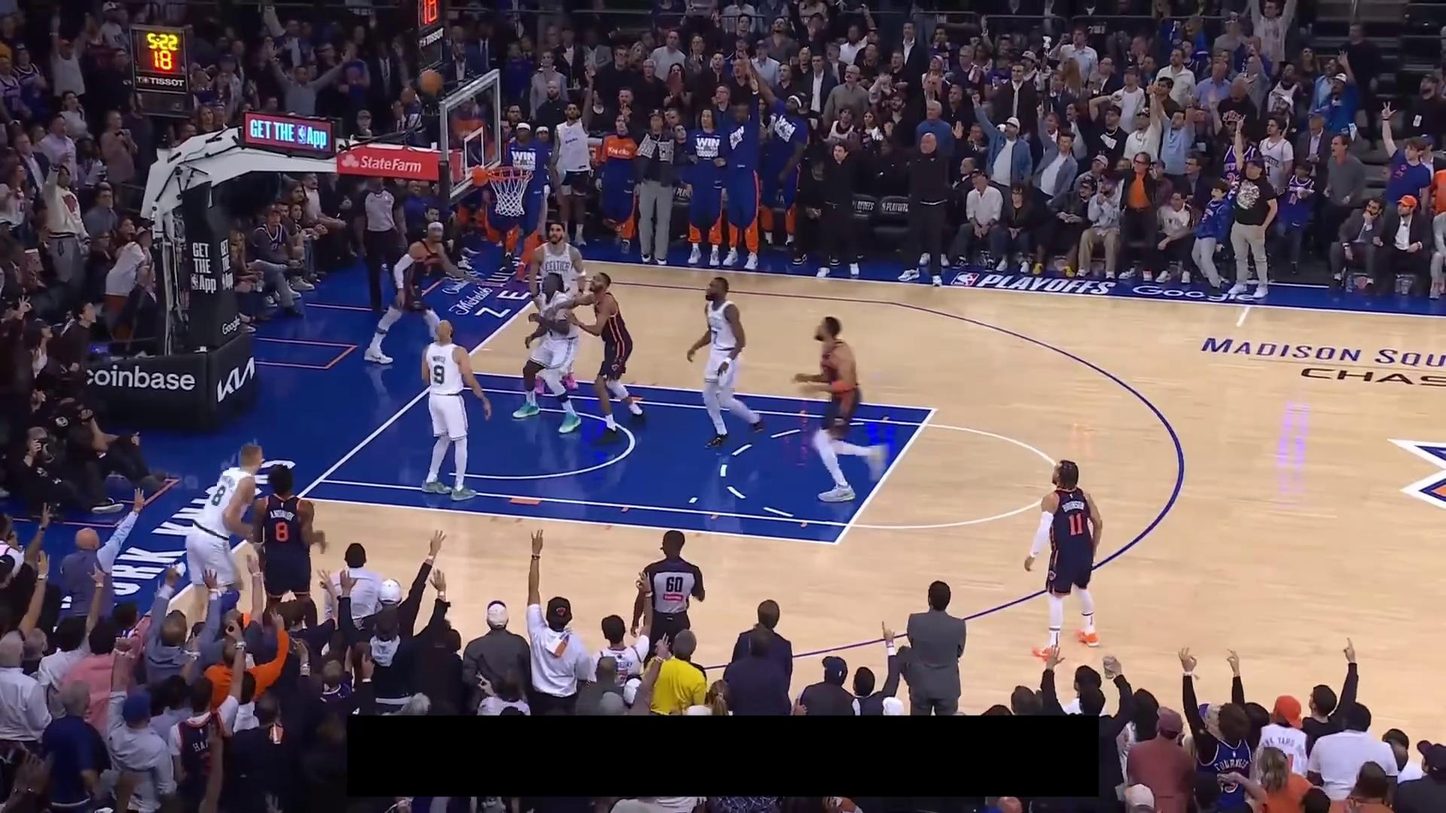ball: (416, 69, 443, 94)
number: (1065, 511, 1084, 538), (209, 482, 227, 509), (272, 521, 290, 542), (431, 364, 448, 386), (710, 329, 718, 344)
player: (788, 315, 890, 504), (1023, 457, 1108, 665), (546, 271, 646, 446), (363, 220, 478, 365), (185, 440, 272, 627), (685, 274, 769, 451), (417, 320, 494, 501), (247, 461, 332, 614), (509, 269, 584, 436), (526, 218, 590, 394)
referee: (351, 173, 423, 320), (630, 526, 707, 663)
rim: (488, 165, 533, 182)
